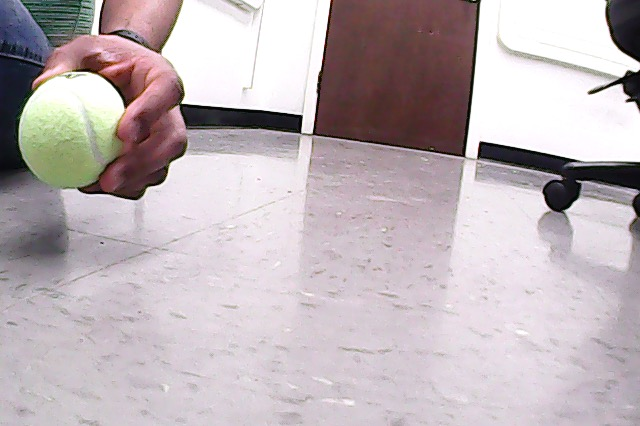ball: (19, 72, 126, 189)
